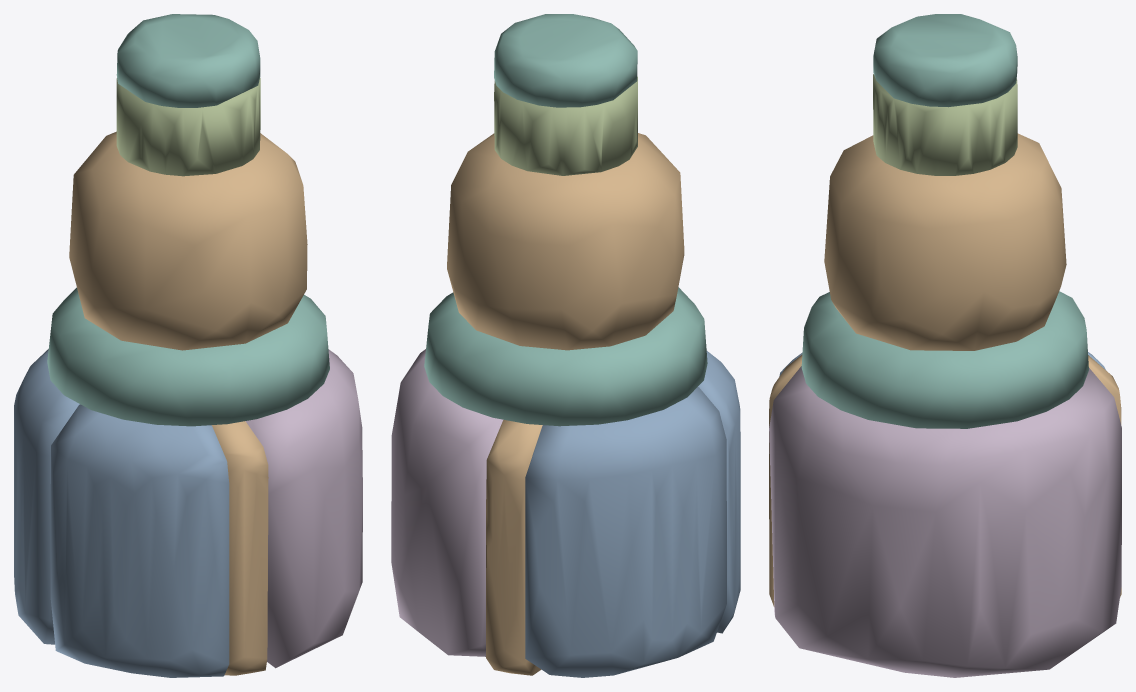
3 views of the same model, side by side, from view 1: azimuth 30°, elevation 25°; view 2: azimuth 150°, elevation 25°; view 3: azimuth 270°, elevation 25° (orthographic).
Size of the model in its own units: 0.99 by 1.79 by 0.9901.
